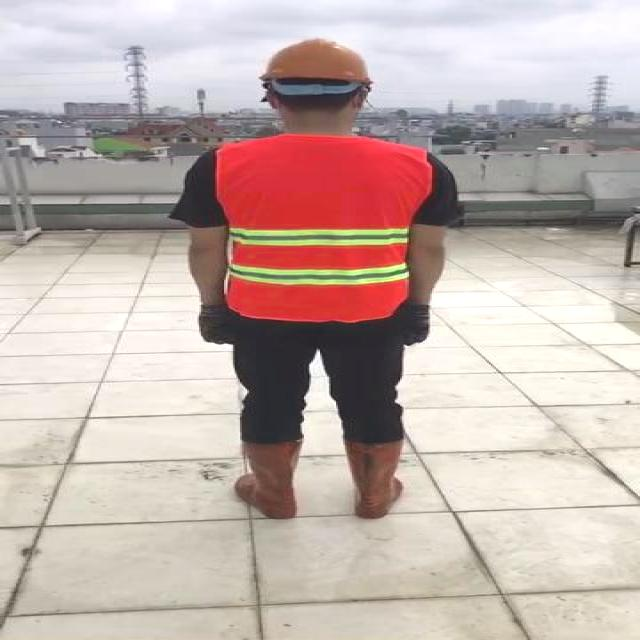boots: (234, 441, 306, 517), (343, 441, 404, 518)
hand_glove: (194, 304, 236, 345), (404, 304, 434, 345)
head_helmet: (252, 36, 378, 86)
person: (172, 36, 463, 526)
vest: (215, 136, 427, 321)
